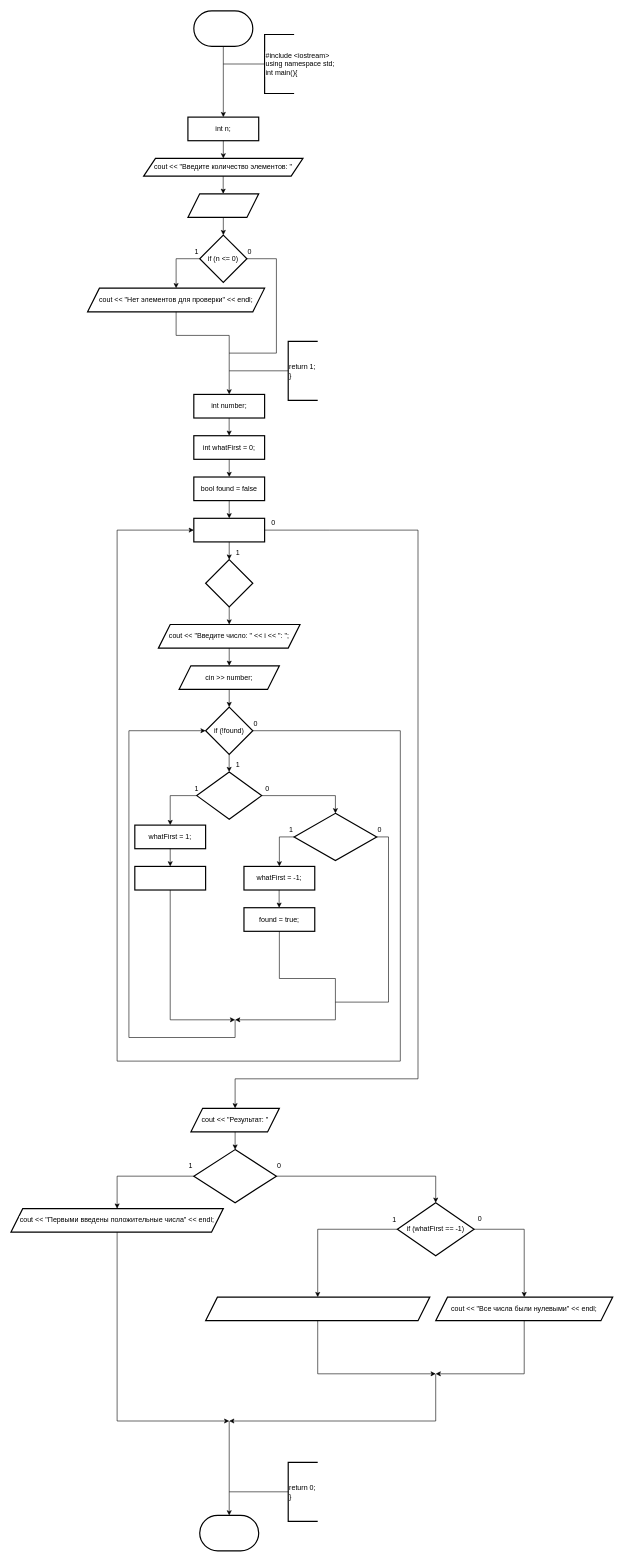
Image size: 623x1561. Some labels were removed from this diagram. Here are the shapes that lost their labels. From the top down, the box of each, then its label:
(193, 10, 253, 47): Начало
(187, 193, 259, 218): cin >> n;
(193, 517, 265, 542): int i = 1;
(205, 559, 253, 607): i <= n
(196, 771, 262, 820): if (number > 0)
(293, 812, 377, 861): if (number < 0)
(134, 866, 206, 890): found = true
(193, 1149, 277, 1203): if (whatFirst == 1)
(205, 1296, 430, 1321): cout << "Первыми введены отрицательные числа" << endl;
(199, 1515, 259, 1551): Конец
